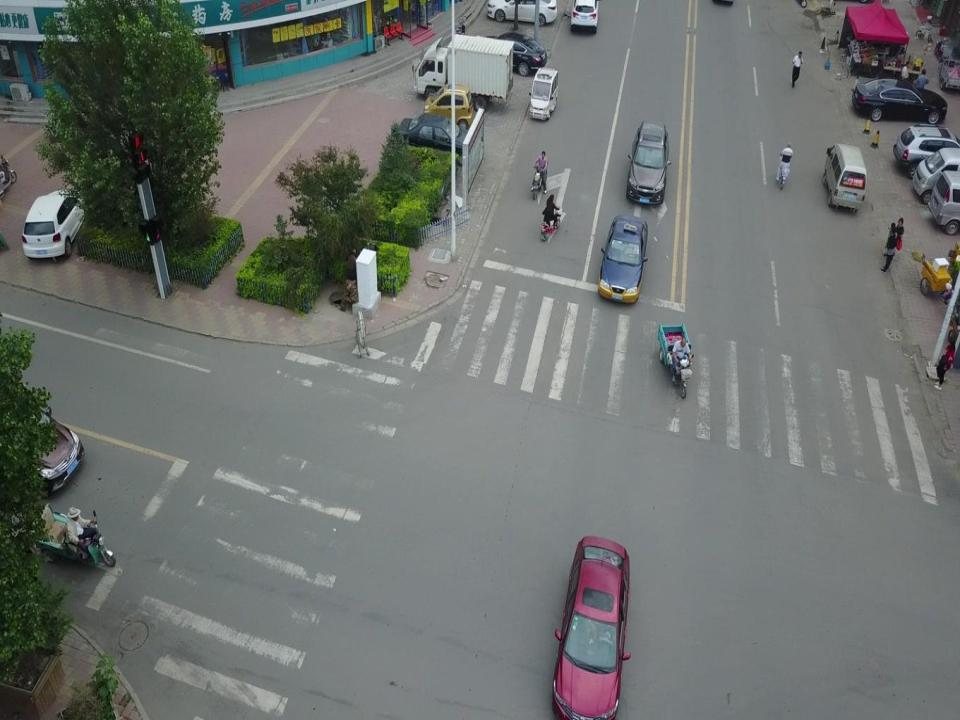car: (552, 535, 631, 720), (0, 393, 85, 500), (22, 189, 90, 259), (851, 76, 948, 125), (597, 215, 648, 304), (397, 114, 473, 166), (626, 121, 672, 206), (893, 123, 960, 181), (477, 32, 547, 77), (423, 83, 474, 132), (485, 0, 557, 26), (529, 66, 558, 120), (570, 0, 600, 34)
truck: (412, 34, 515, 113)
van: (910, 146, 960, 206), (927, 170, 960, 236)
